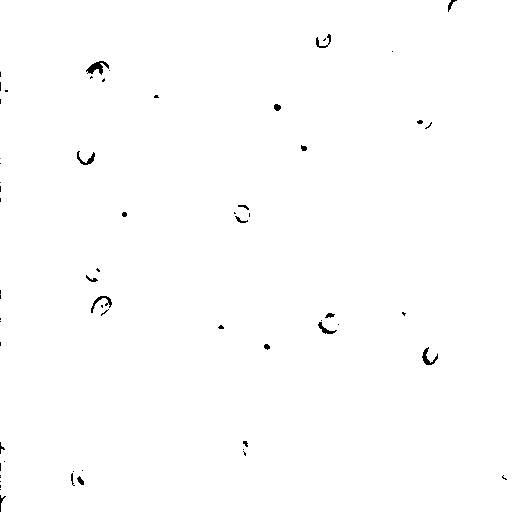micro-algae: (161, 0, 261, 91), (192, 167, 283, 256), (385, 259, 455, 327), (101, 0, 177, 60), (274, 0, 339, 41), (394, 22, 439, 67), (315, 285, 359, 329), (213, 302, 252, 351), (486, 240, 511, 311), (216, 32, 259, 73), (73, 55, 113, 93), (377, 301, 413, 336), (109, 204, 143, 235), (67, 462, 101, 489), (57, 219, 90, 246), (408, 102, 437, 132), (376, 45, 403, 71), (489, 459, 512, 489), (263, 96, 289, 120), (289, 130, 313, 156), (251, 333, 277, 357), (75, 145, 97, 169), (229, 231, 251, 255), (91, 295, 114, 317), (397, 215, 419, 238), (1, 491, 25, 512), (317, 313, 342, 333), (494, 417, 512, 444), (239, 435, 259, 459), (0, 72, 17, 100), (422, 343, 441, 367), (313, 28, 333, 49), (84, 263, 103, 283), (233, 203, 250, 225), (447, 0, 465, 17), (1, 444, 9, 465)
